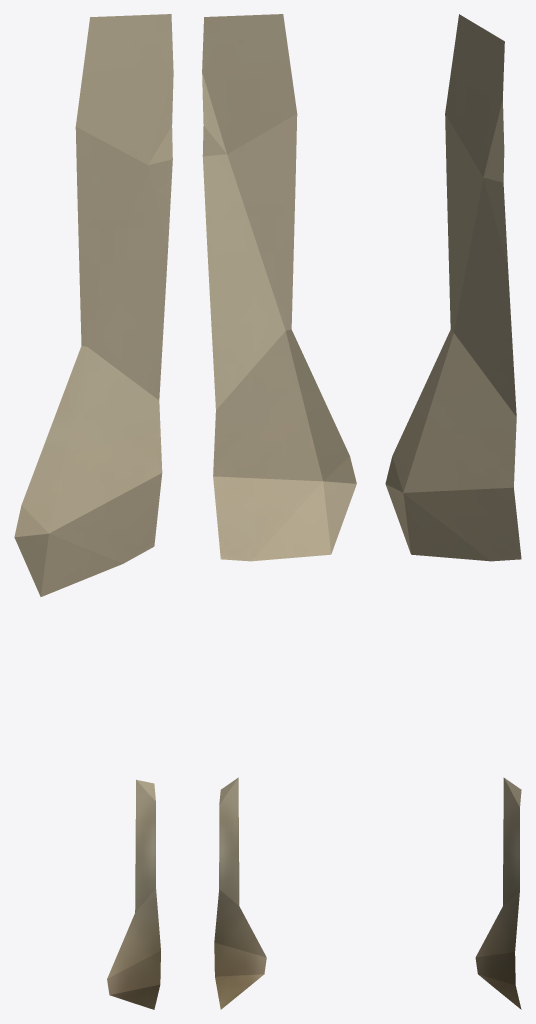
The picture shows the model from 3 angles, left to right: view 1: azimuth 30°, elevation 25°; view 2: azimuth 210°, elevation 25°; view 3: azimuth 330°, elevation 25°; orthographic projection. The views are drawn at different scales.
Bounding box in the file's own units: 0.1032 × 0.7105 × 0.0245.
Materials: 1 (1 with a texture image).
